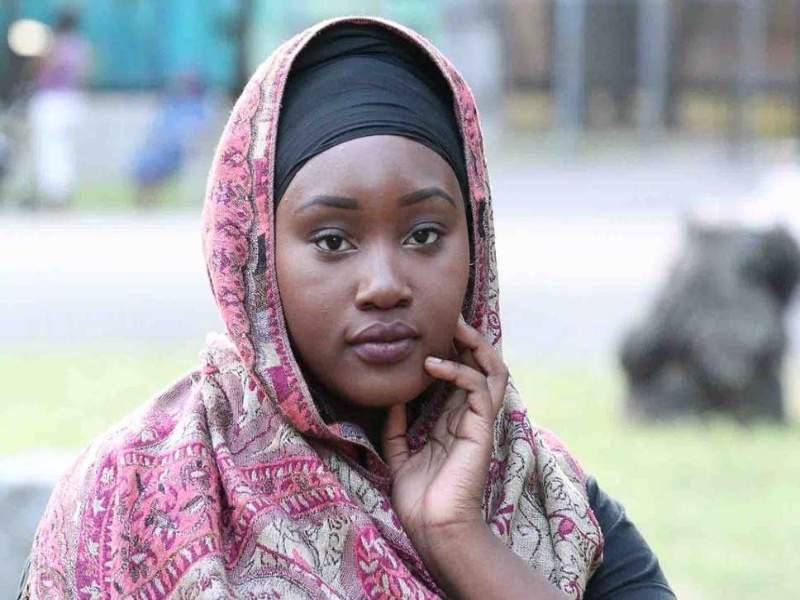face: (281, 165, 461, 375)
